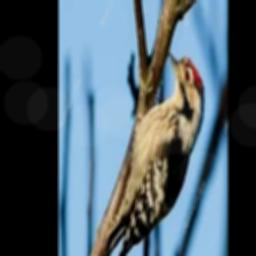Woodpecker: (105, 51, 204, 256)
